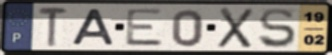0: (169, 7, 206, 49)
A: (71, 8, 118, 47)
E: (124, 8, 166, 48)
S: (257, 7, 298, 50)
T: (37, 6, 70, 48)
X: (216, 6, 256, 50)
